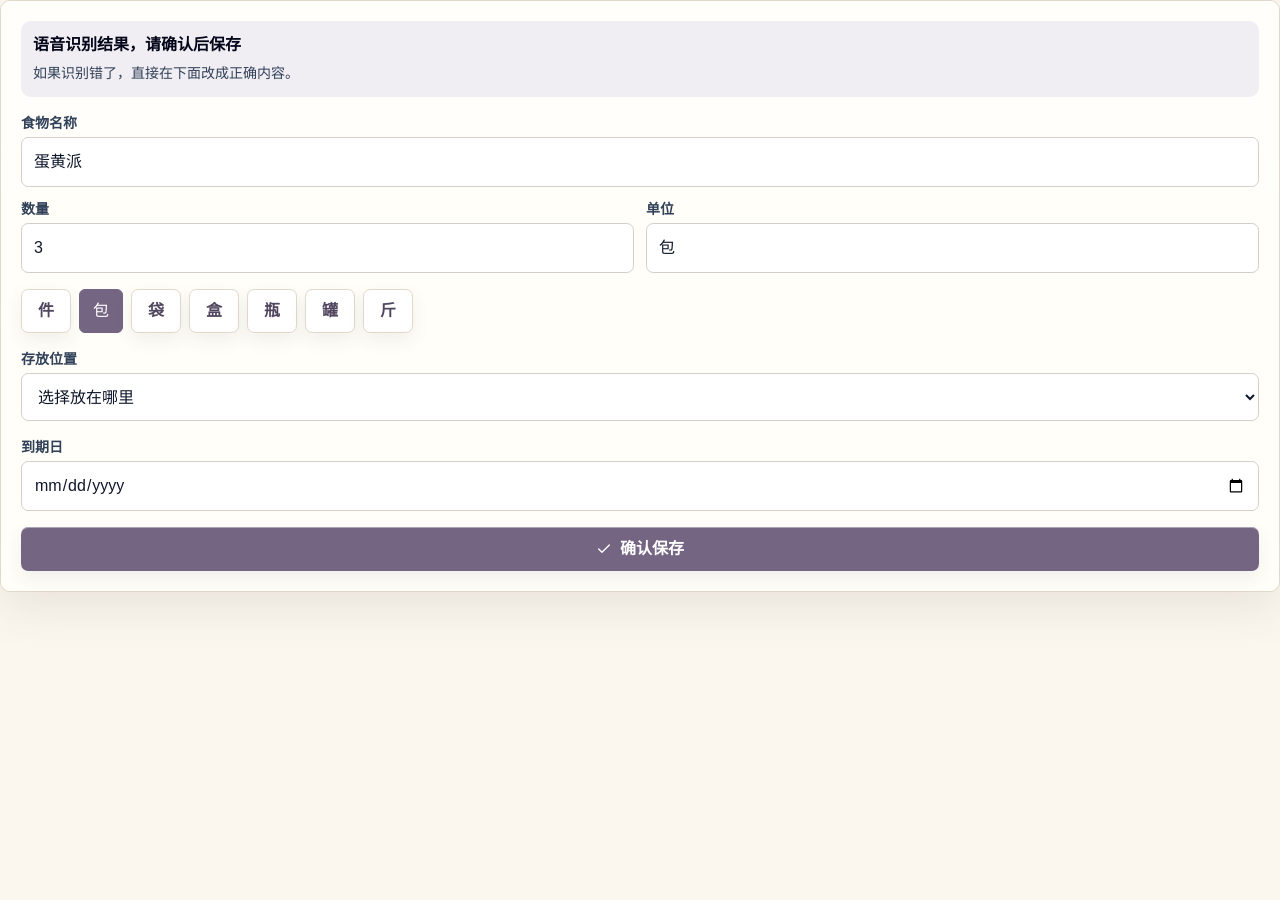
Scenario: AddFoodConfirmForm › saves the edited confirmation fields
Select "妈妈零食柜" in the dropdown labelled "存放位置" at (640, 397), box [21,373,1259,421]
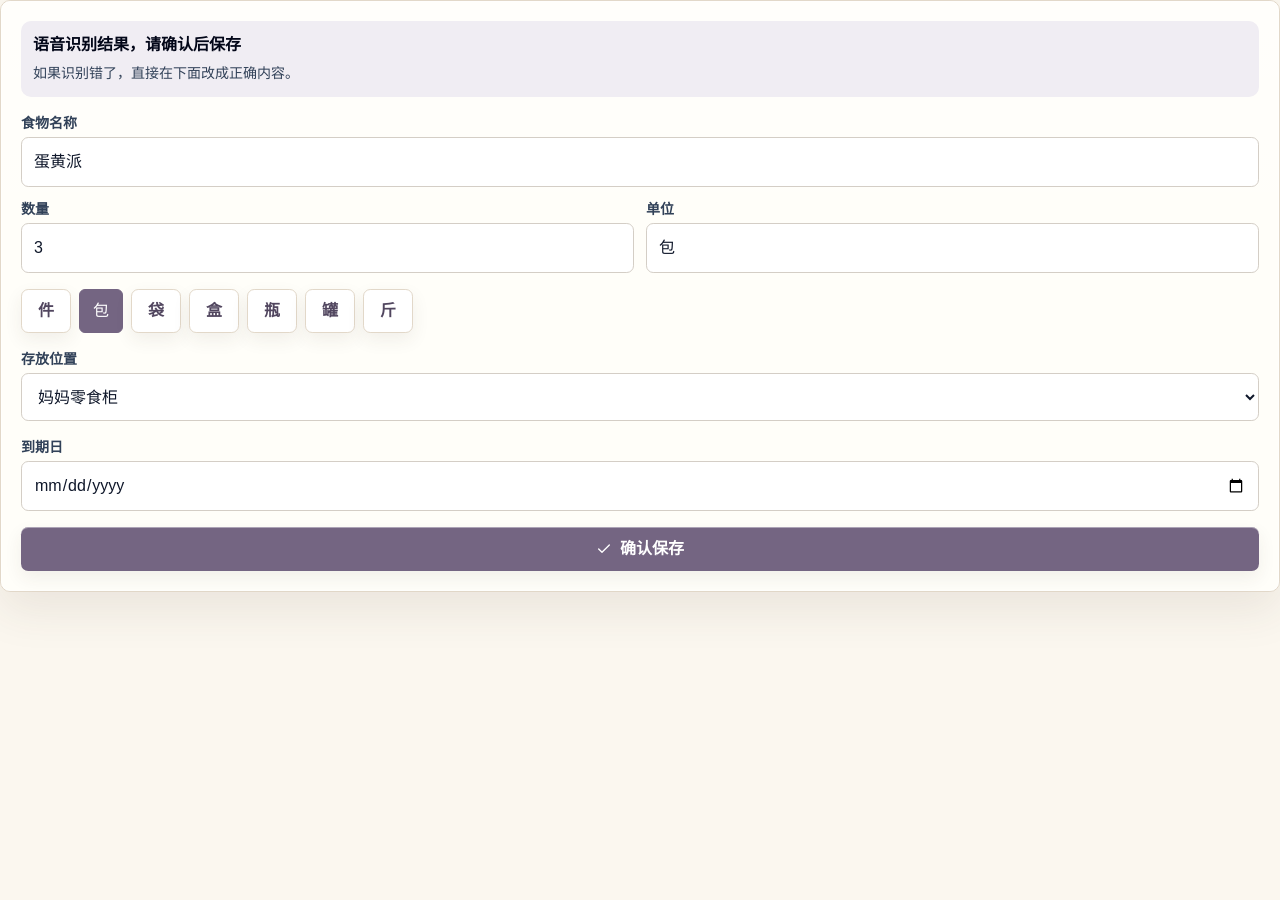
Type "2026-08-20" into the date field labelled "到期日" at (640, 486), box [21,461,1259,511]
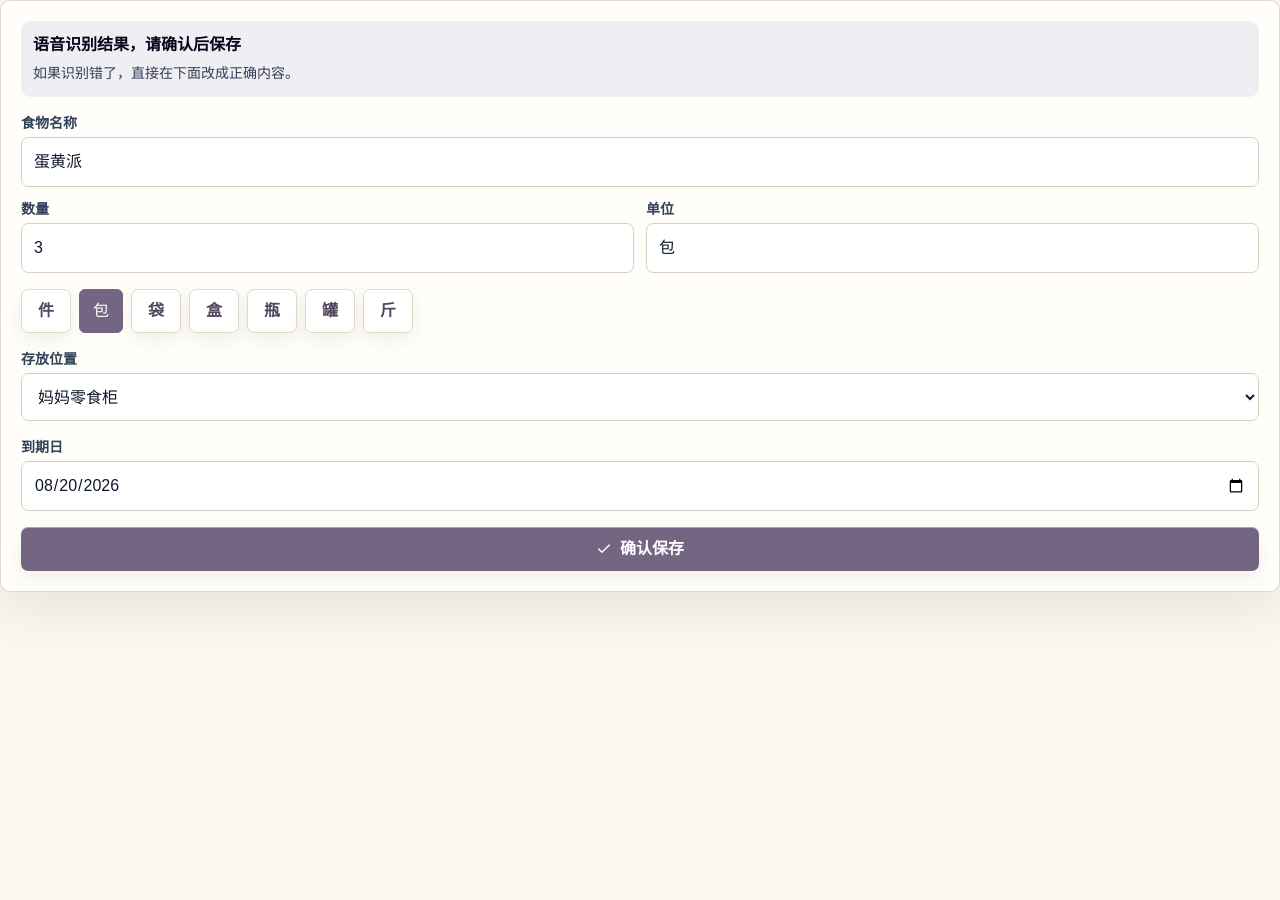
Click the button "确认保存" at (640, 549), box [21,527,1259,571]
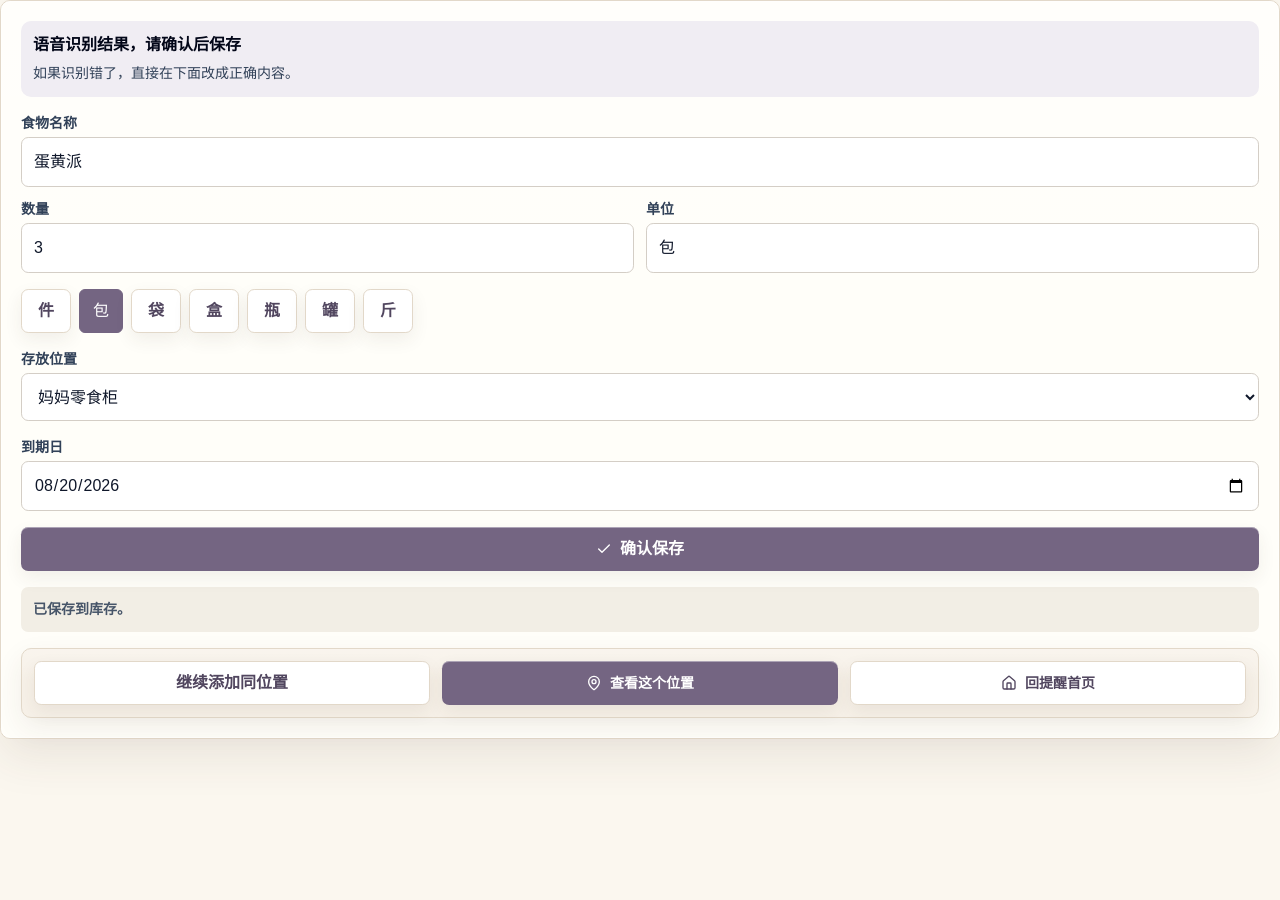
Check: the text "已保存到库存。" is shown, box [21,587,1259,632]
